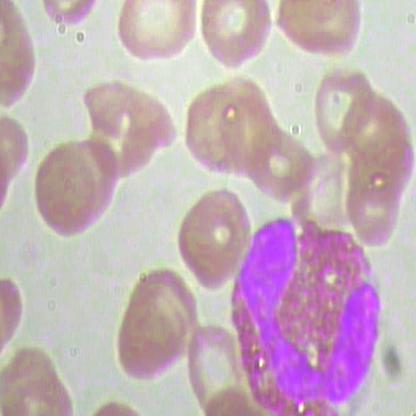RBC: (176, 190, 254, 292), (106, 289, 188, 386), (30, 144, 100, 245), (275, 1, 364, 77), (115, 1, 200, 77), (197, 1, 278, 77), (0, 343, 70, 415), (316, 72, 374, 152)
WBC: (225, 208, 390, 415)
